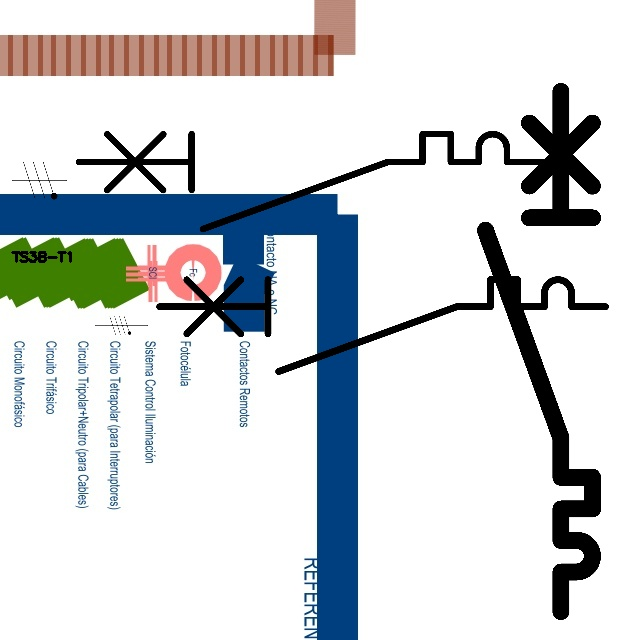interruptor_termomagnetico: (472, 78, 606, 625), (67, 122, 554, 241), (148, 268, 617, 383)
